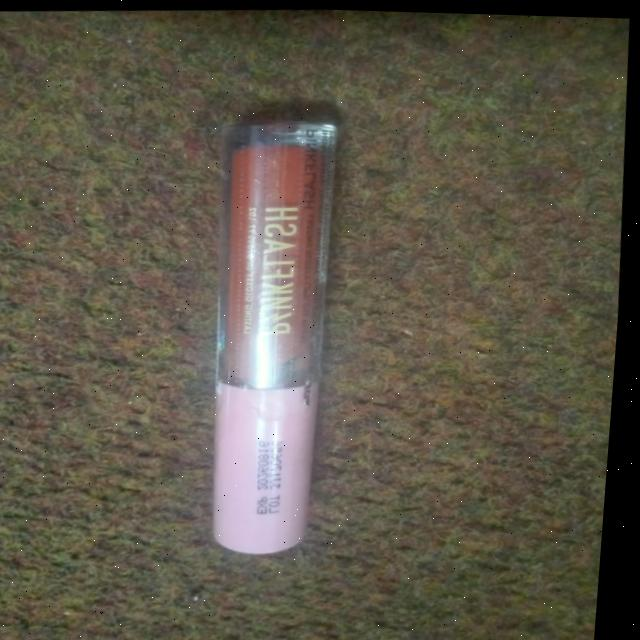lip gloss: (174, 102, 373, 565)
